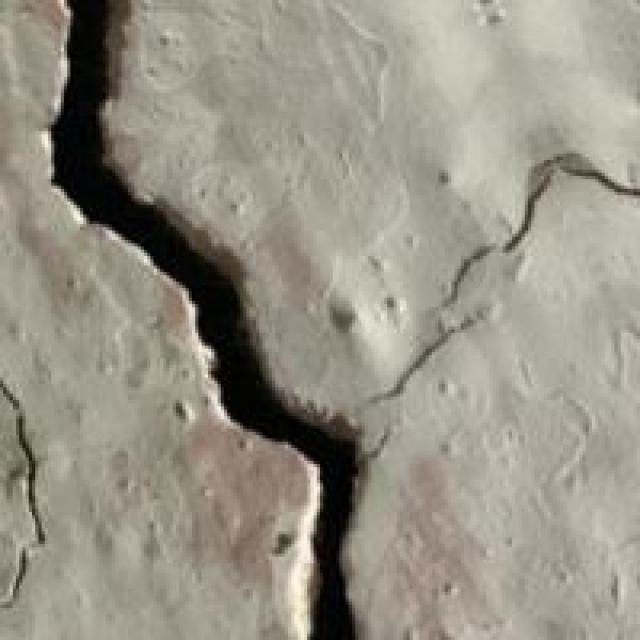crack: (45, 9, 448, 636)
